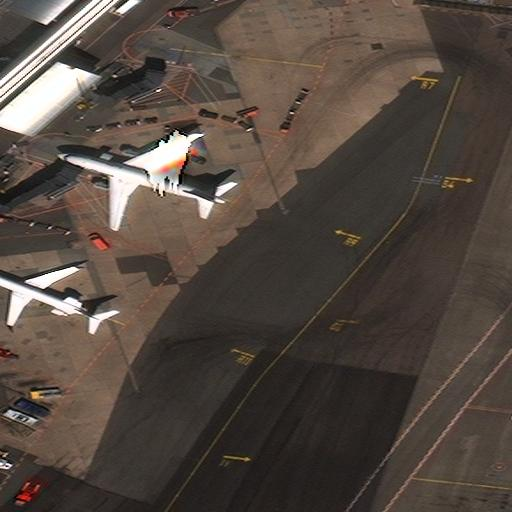Medium Civil Transport: (57, 133, 227, 230), (0, 260, 105, 327)
